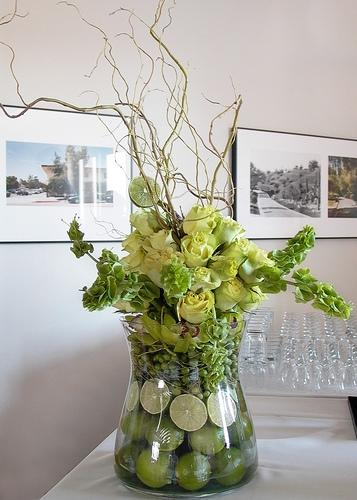lime: (114, 442, 152, 491), (202, 446, 248, 486), (136, 447, 175, 488), (174, 451, 212, 490), (170, 394, 208, 432), (144, 416, 184, 451), (188, 420, 226, 456), (140, 378, 176, 415), (206, 390, 237, 428), (128, 175, 160, 208), (120, 410, 151, 441), (227, 410, 253, 446), (230, 439, 255, 467), (126, 381, 142, 412), (228, 386, 237, 402)
